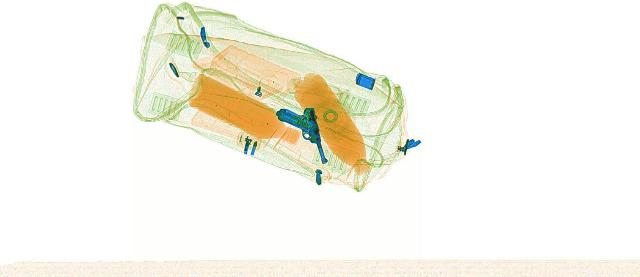Gun: (272, 103, 346, 166)
